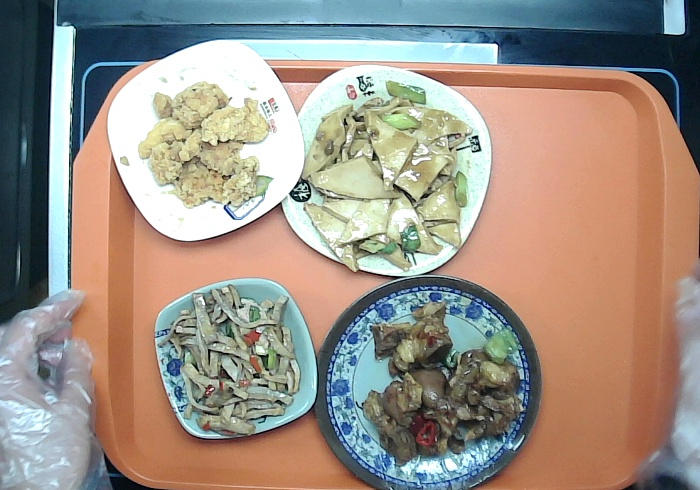NLDX-Bai_Se_Xiao_Fang_Die: (107, 39, 304, 240)
NLDX-Fu_Zi_Fang_Die: (281, 64, 492, 274)
NLDX-Qing_Hua_Xiao_Fang_Die: (153, 277, 319, 439)
NLDX-Qing_Hua_Yuan_Die: (315, 275, 544, 490)
